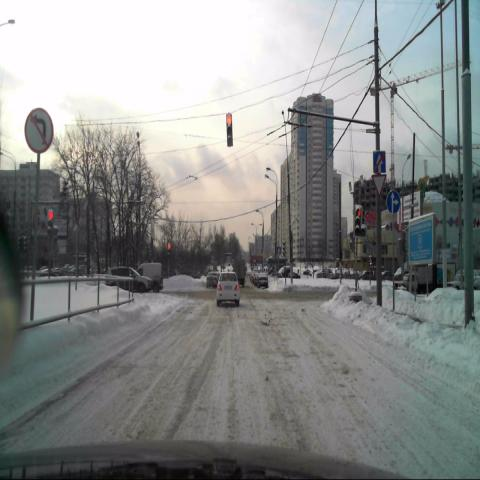3_18_2: (24, 106, 54, 154)
